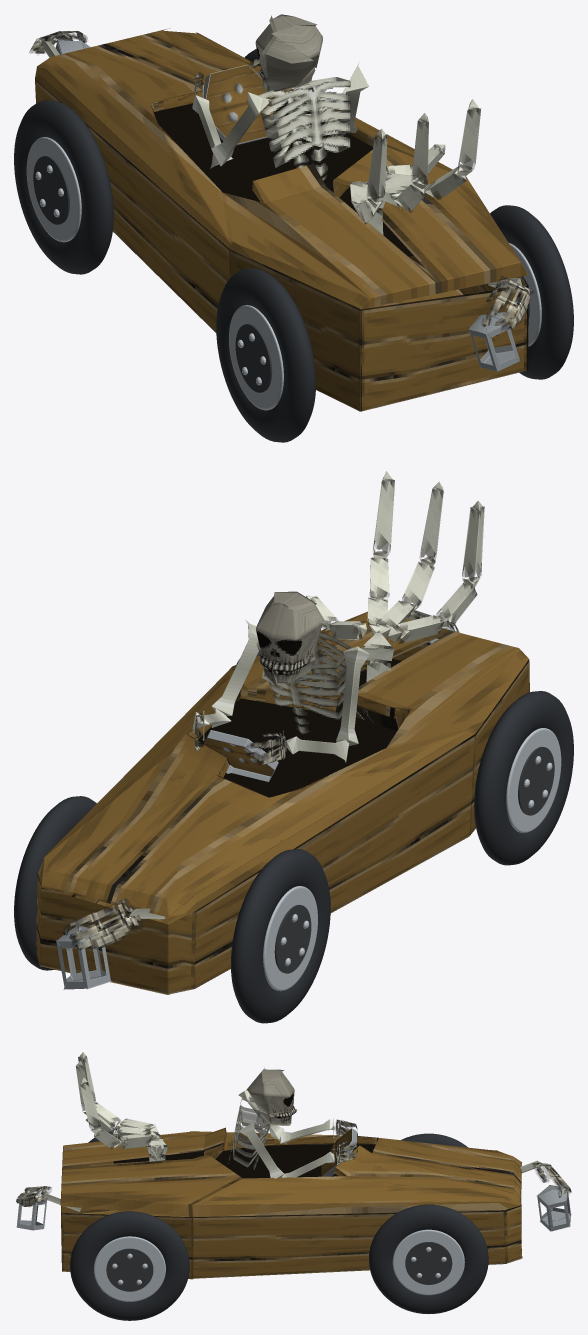
File: car-coffin.glb
3 views of the same model, one above another, from view 1: azimuth 30°, elevation 25°; view 2: azimuth 150°, elevation 25°; view 3: azimuth 270°, elevation 25° (orthographic). The views are drawn at different scales.
Visible parts, largest first — view 1: coffinShape, coffinShape.001, Rounded tire.008, Rounded tire.011, Rounded tire.010, Alloy rim.008, Alloy rim.011, Rim recess.016, Rim recess.022, Alloy rim.010; view 2: coffinShape, coffinShape.001, Rounded tire.011, Rounded tire.008, Rounded tire.009, Alloy rim.011, Alloy rim.008, Rim recess.022, Rim recess.016; view 3: coffinShape, Rounded tire.009, Rounded tire.010, coffinShape.001, Alloy rim.009, Alloy rim.010, Rim recess.021, Rim recess.019, Rounded tire.008.
Boxes of the visible parts, x1,y1,x2,y2 form: coffinShape: [29, 28, 534, 411]; coffinShape.001: [104, 14, 413, 256]; Rounded tire.008: [14, 100, 113, 274]; Rounded tire.011: [216, 268, 315, 442]; Rounded tire.010: [490, 205, 573, 379]; Alloy rim.008: [26, 137, 81, 242]; Alloy rim.011: [229, 305, 283, 410]; Rim recess.016: [33, 156, 69, 224]; Rim recess.022: [235, 324, 272, 392]; Alloy rim.010: [509, 243, 541, 346]; coffinShape: [36, 471, 529, 994]; coffinShape.001: [198, 591, 401, 840]; Rounded tire.011: [474, 691, 573, 865]; Rounded tire.008: [231, 849, 330, 1023]; Rounded tire.009: [14, 796, 96, 970]; Alloy rim.011: [506, 728, 561, 832]; Alloy rim.008: [263, 886, 317, 991]; Rim recess.022: [518, 746, 554, 815]; Rim recess.016: [274, 905, 311, 973]; coffinShape: [16, 1052, 571, 1279]; Rounded tire.009: [369, 1204, 488, 1314]; Rounded tire.010: [70, 1211, 189, 1320]; coffinShape.001: [113, 1068, 375, 1201]; Alloy rim.009: [392, 1229, 464, 1295]; Alloy rim.010: [94, 1236, 165, 1301]; Rim recess.021: [106, 1248, 153, 1291]; Rim recess.019: [405, 1242, 452, 1284]; Rounded tire.008: [401, 1133, 467, 1147].
Bounding box in the file's own units: 1.49 × 1.57 × 3.7.
5 materials, 2 textured.
